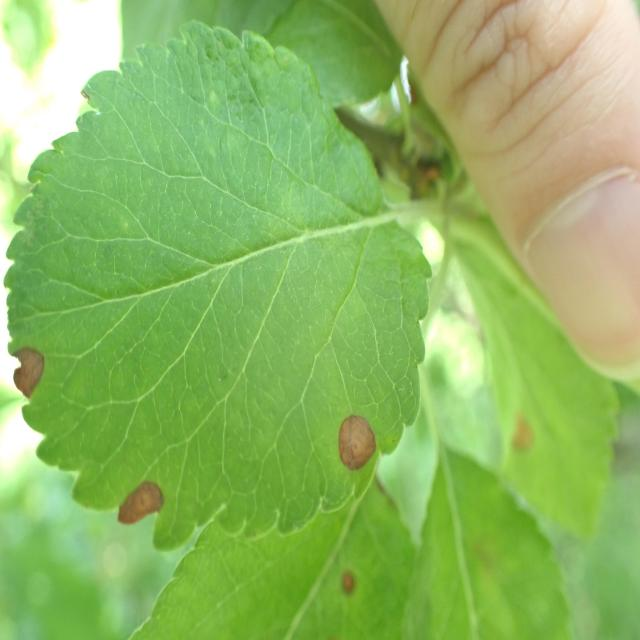Black Rot: (305, 364, 406, 562), (75, 465, 177, 546), (0, 330, 69, 422)
